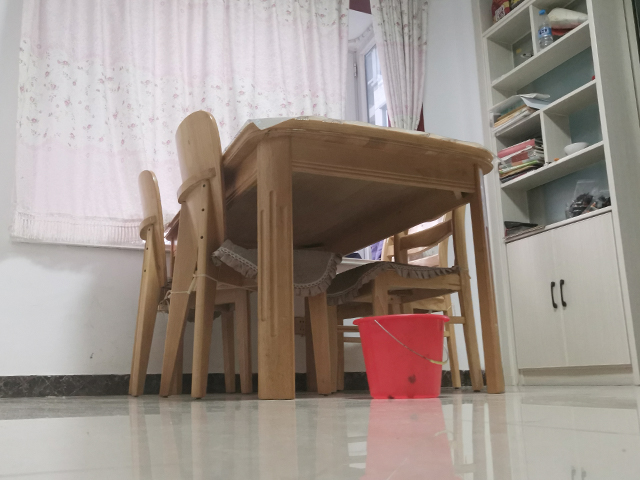cabinet: (477, 1, 640, 386)
stool: (157, 110, 340, 398), (325, 204, 484, 394), (128, 169, 252, 398)
table: (162, 118, 505, 400)
